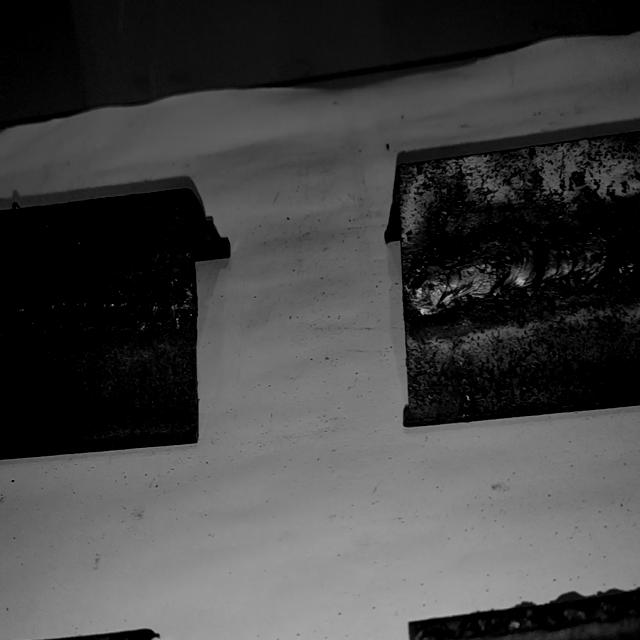Bad Weld: (407, 228, 640, 309)
Defect: (593, 219, 640, 296)
Good Weld: (0, 279, 191, 333)
